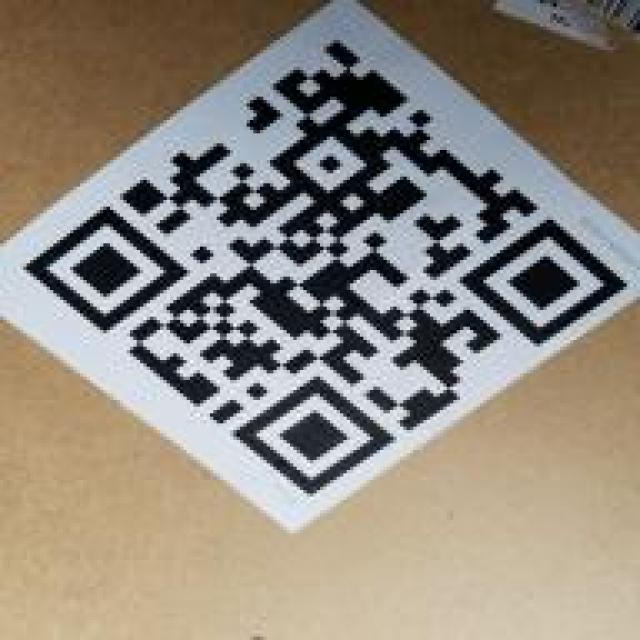QR_CODE: (10, 30, 637, 507)
